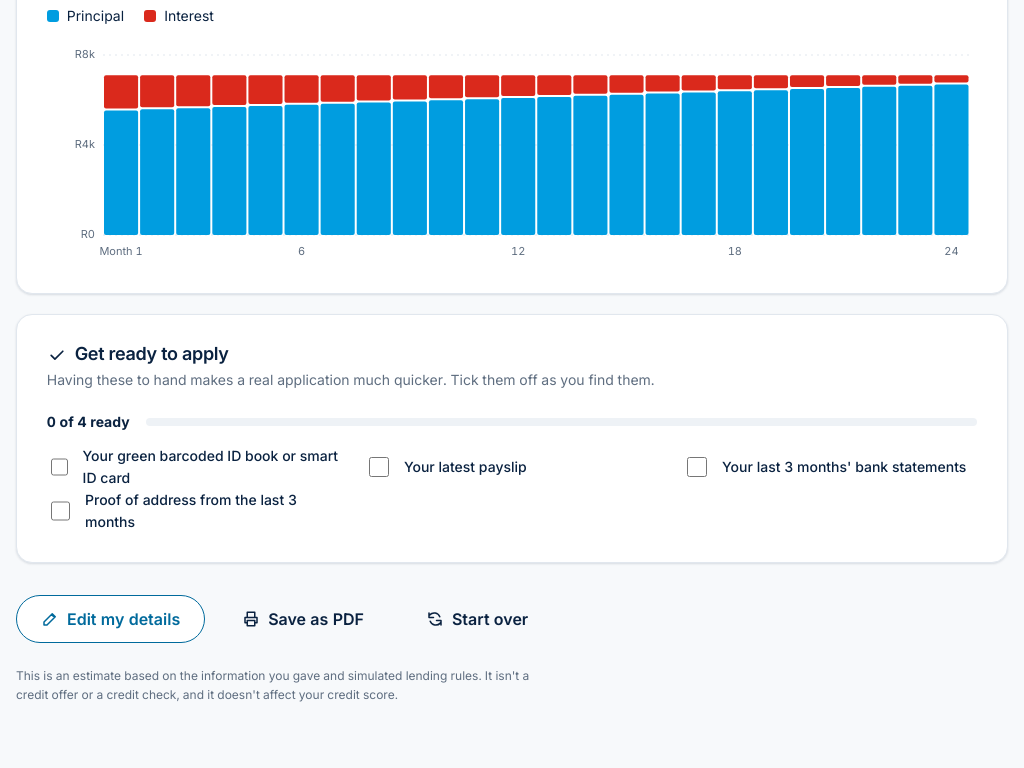
Scenario: Applying (the call to action) › offers to apply once every document on the checklist is ticked
The width and height of the screenshot is (1024, 768).
(page scrolled)
What coordinates should you click on to do the following:
click the checkbox labelled "Your green barcoded ID book or smart ID card"
I would click on:
 (59, 466)
Its box is [51,456,68,476].
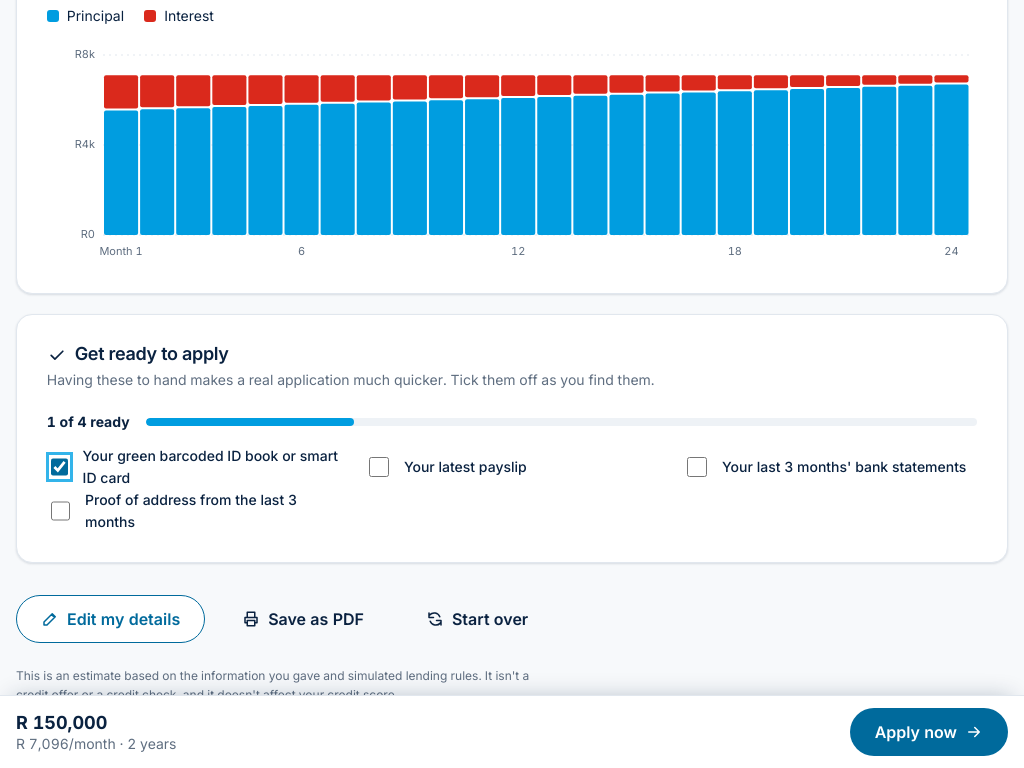
What coordinates should you click on to do the following:
click the checkbox labelled "Your latest payslip"
I would click on:
 (379, 466)
Its box is [369,456,389,476].
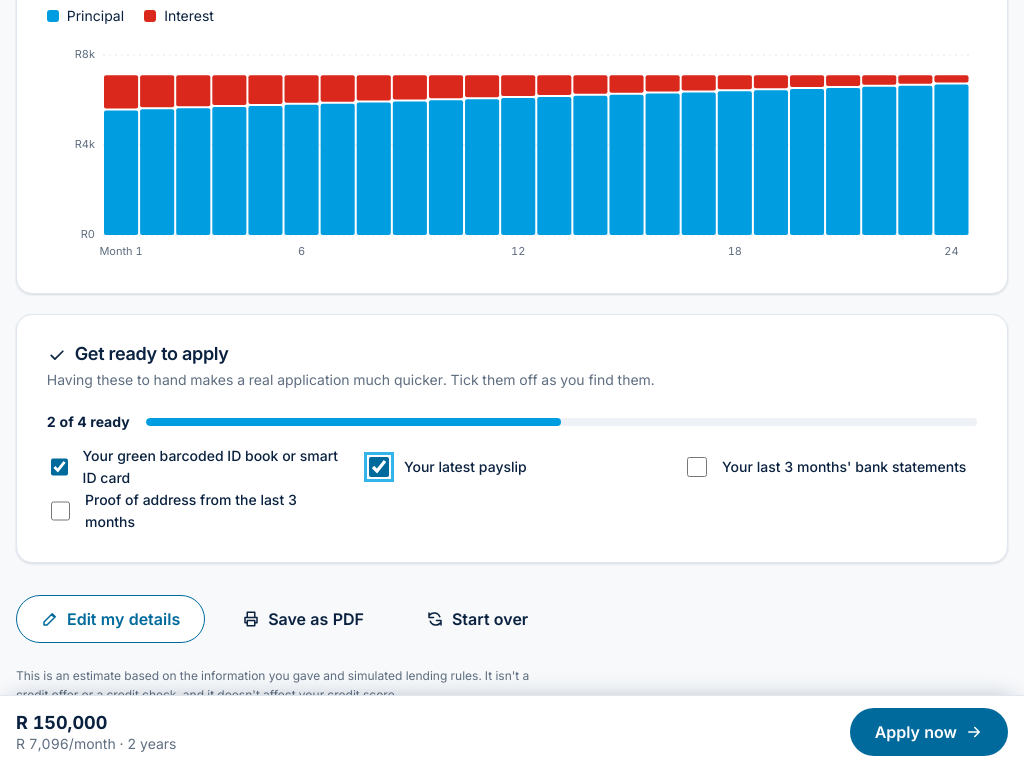
What coordinates should you click on to do the following:
click the checkbox labelled "Your last 3 months' bank statements"
I would click on:
 (697, 466)
Its box is [687,456,707,476].
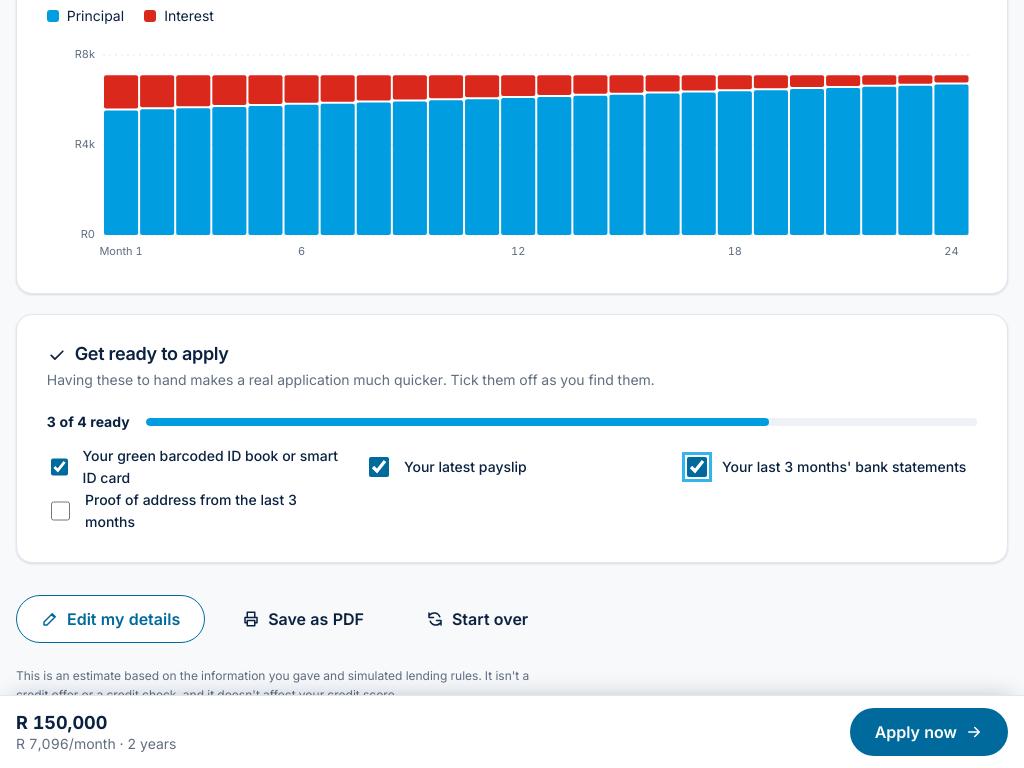
What coordinates should you click on to do the following:
click the checkbox labelled "Proof of address from the last 3 months"
I would click on:
 (60, 510)
Its box is [51,500,70,520].
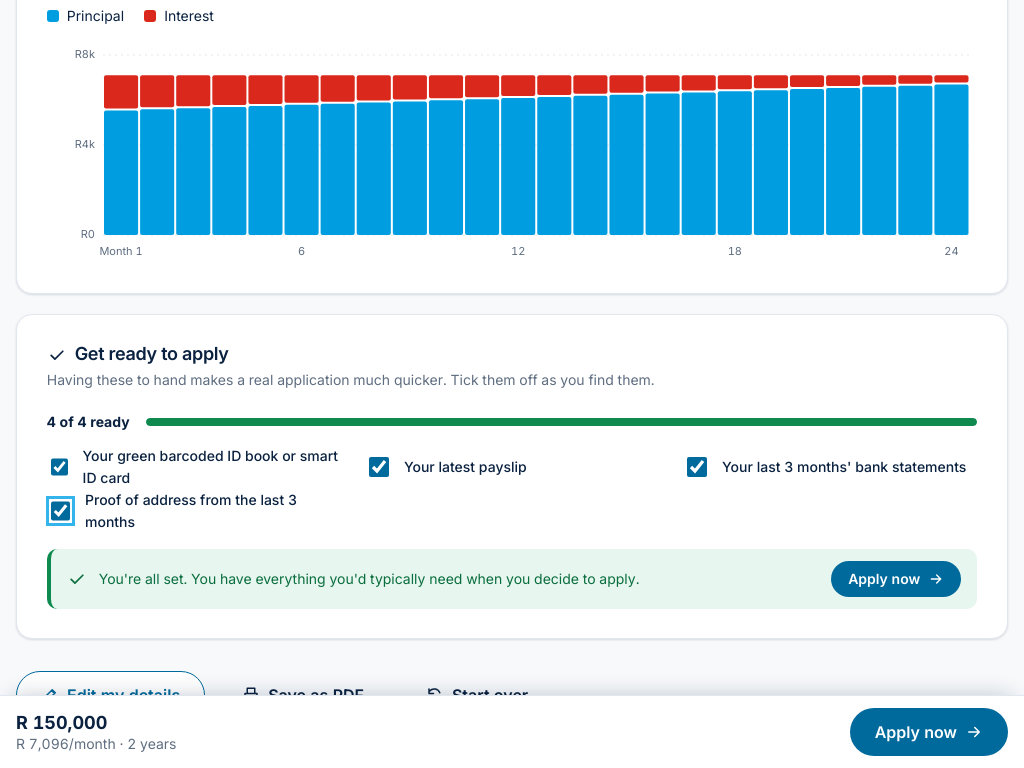
What coordinates should you click on to do the following:
click the button "Apply now" below "Your last 3 months' bank statements"
I would click on:
 (896, 578)
Its box is [831,560,961,596].
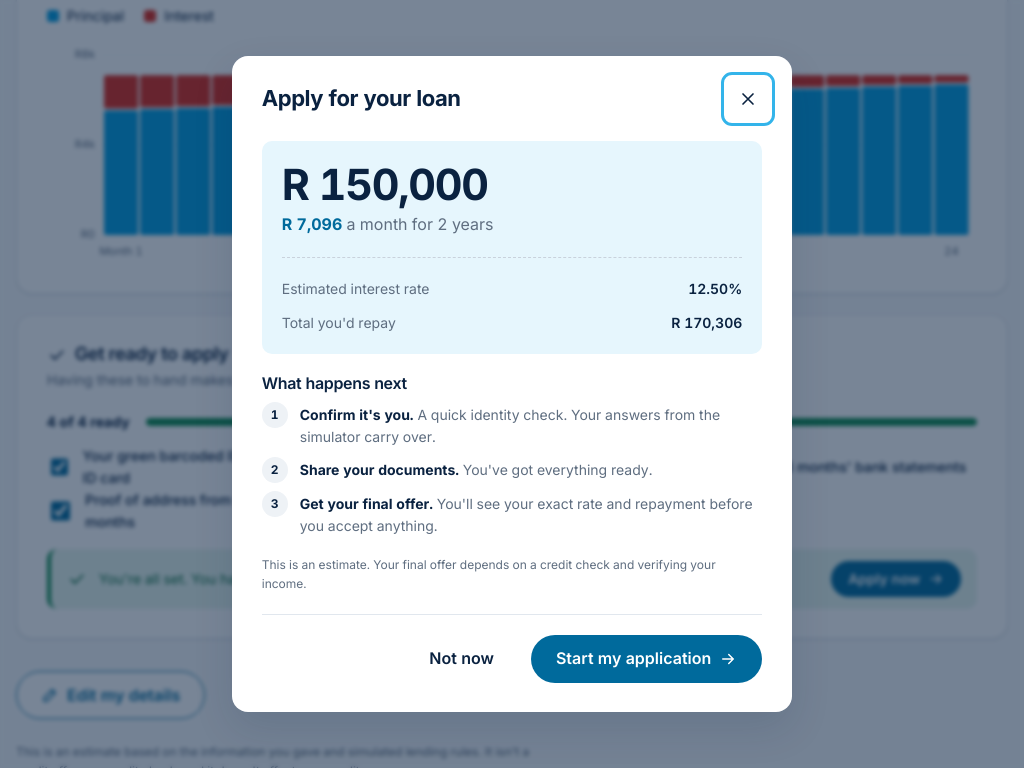
Expected: the dialog "Apply for your loan" shows "You've got everything ready.", [463,461,652,478]
